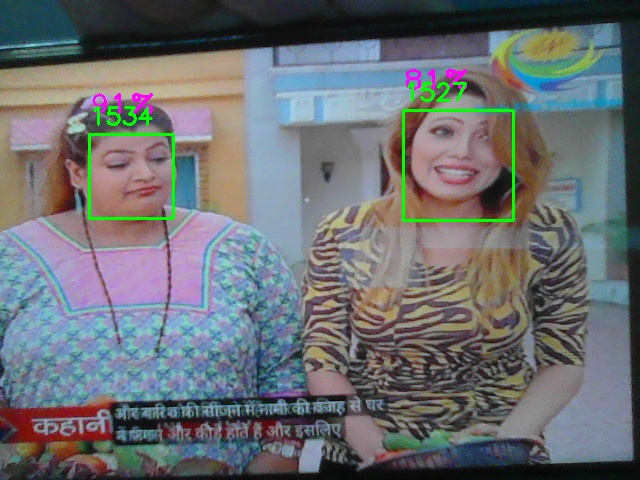fake: (403, 110, 514, 221), (89, 134, 174, 219)
